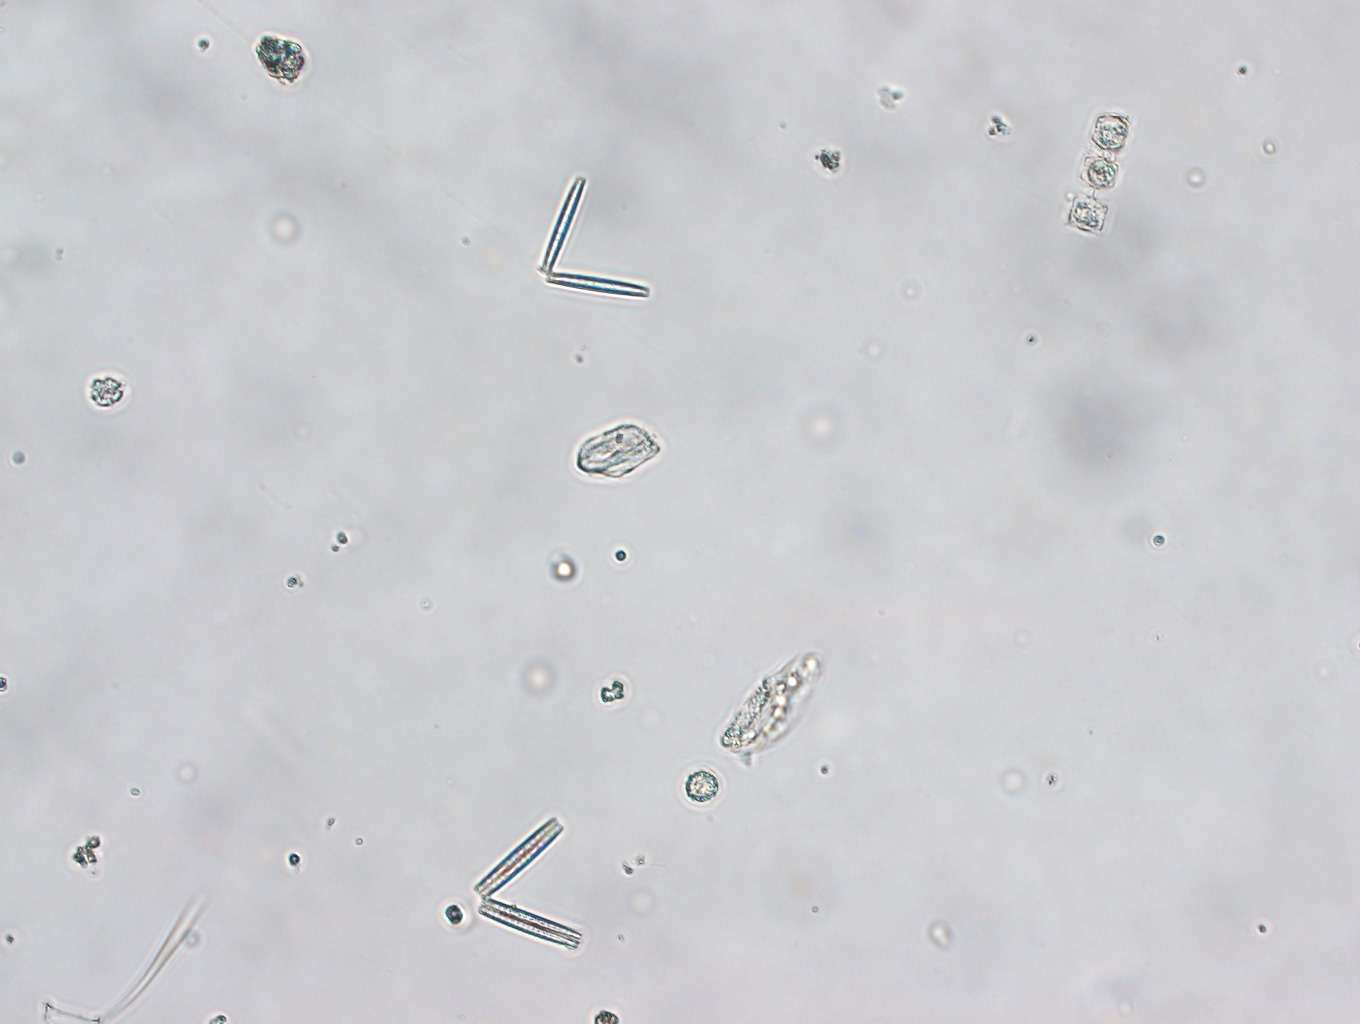skeletonema: (1057, 101, 1135, 241)
thalassionema nitzschioides: (473, 813, 584, 956), (530, 173, 649, 305)
